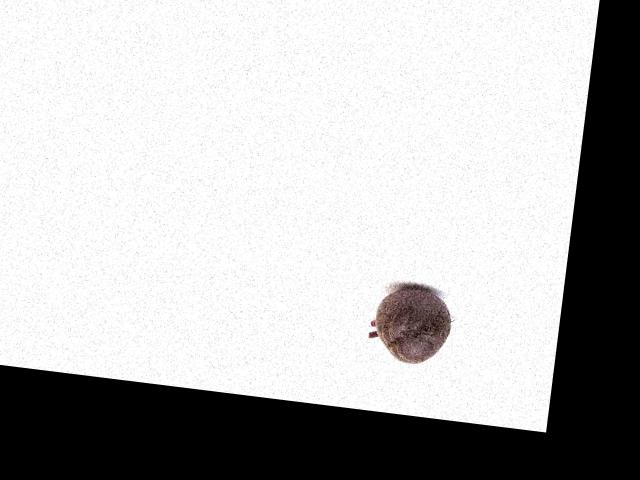beet: (367, 281, 456, 368)
